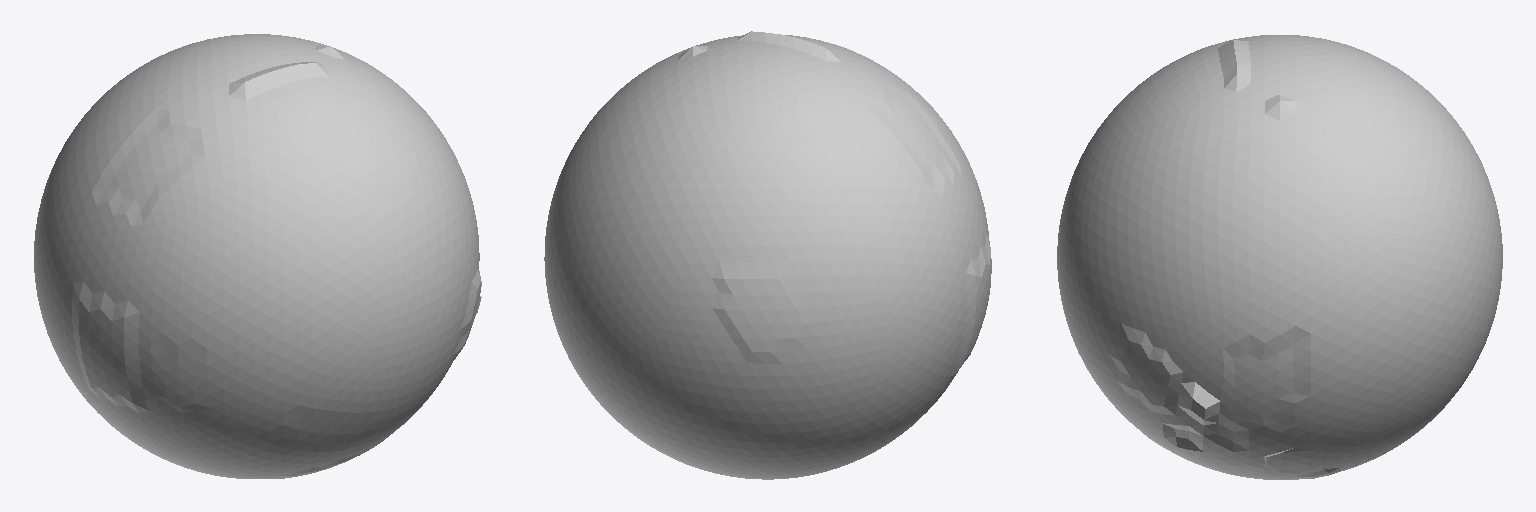
The model's file is blue_planet.obj.
The picture shows the model from 3 angles: view 1: azimuth 30°, elevation 25°; view 2: azimuth 150°, elevation 25°; view 3: azimuth 270°, elevation 25°; orthographic projection.
Visible parts, largest first — view 1: Cube_Cube; view 2: Cube_Cube; view 3: Cube_Cube.
Part boxes in pixels (x1,y1,x2,y2): Cube_Cube: (34,34,481,478); Cube_Cube: (544,31,991,479); Cube_Cube: (1057,35,1502,479).
Bounding box in the file's own units: 2 × 2.01 × 2.